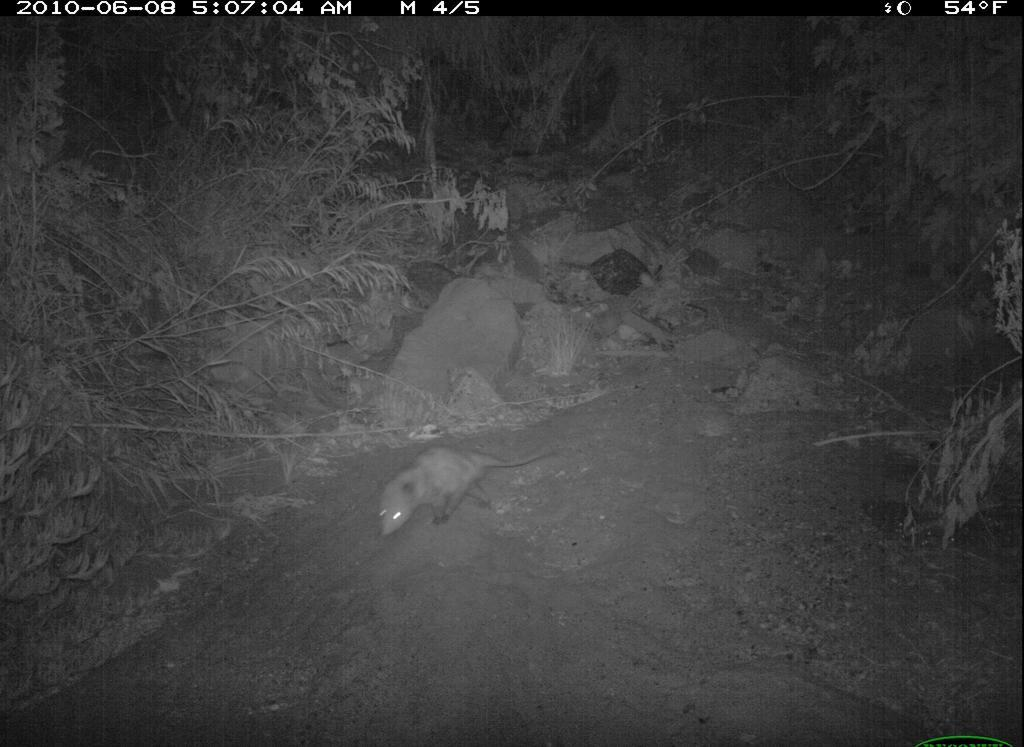opossum: (369, 440, 559, 545)
